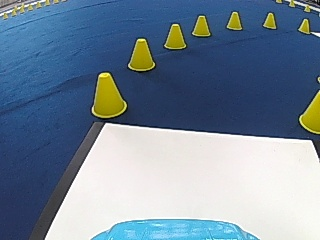cone: (90, 72, 127, 118), (127, 38, 156, 71), (298, 90, 320, 133), (164, 23, 187, 49), (191, 15, 211, 37), (226, 11, 242, 30), (262, 12, 277, 29), (298, 18, 310, 33)
